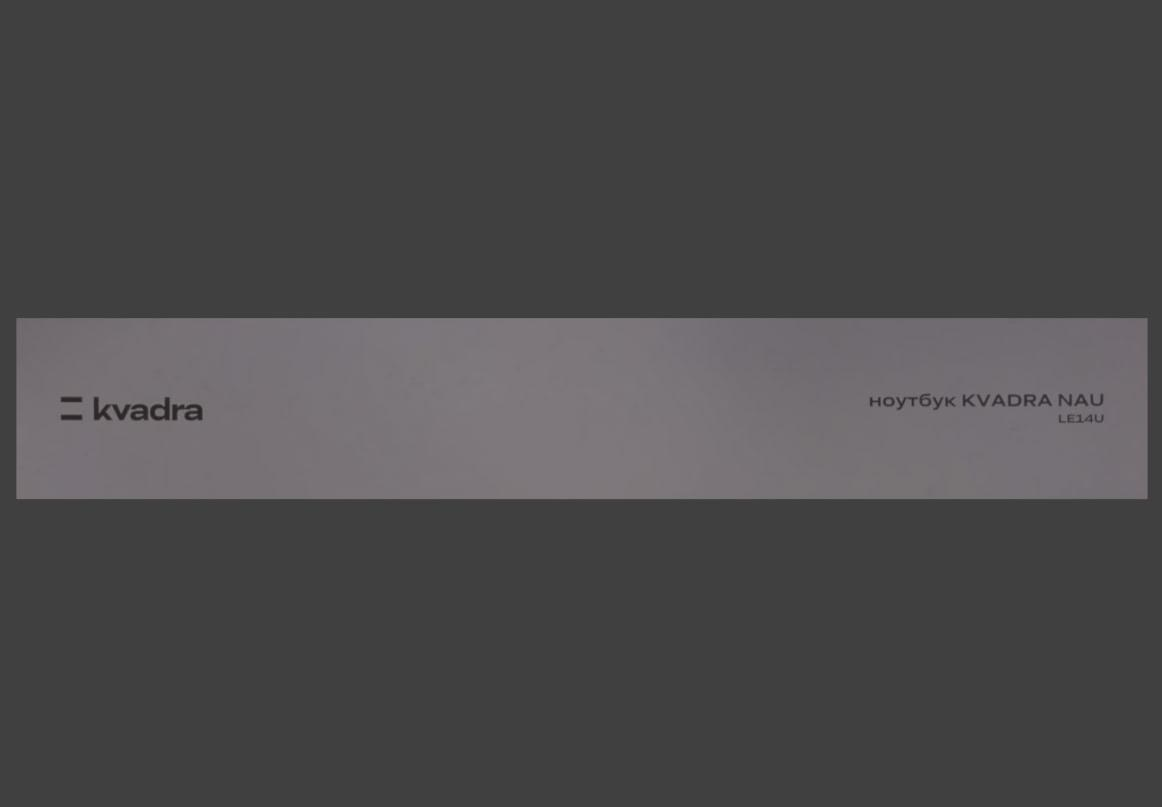laptop_left: (12, 315, 1150, 505)
